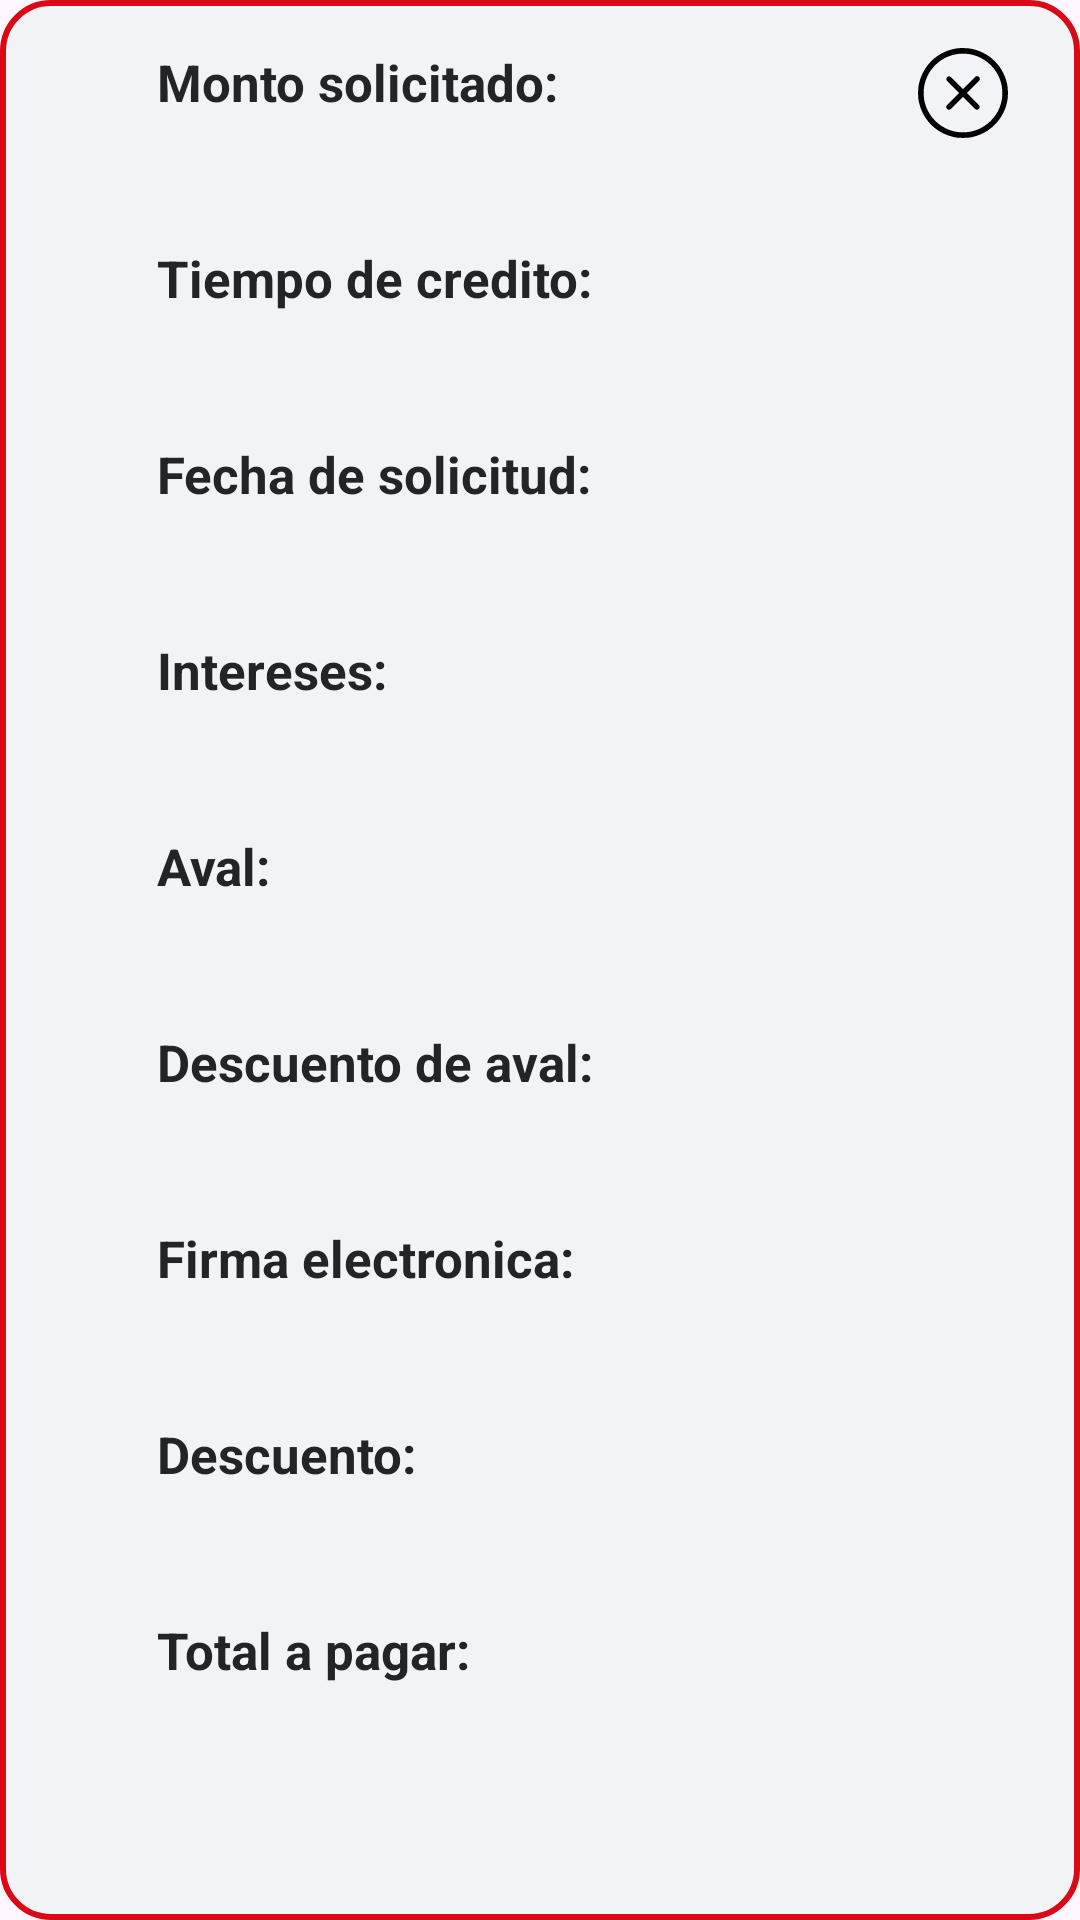

Named icons in this screenshot (1080 x 1920) and their centers, point (x, y):
Close button: point (963, 93)
